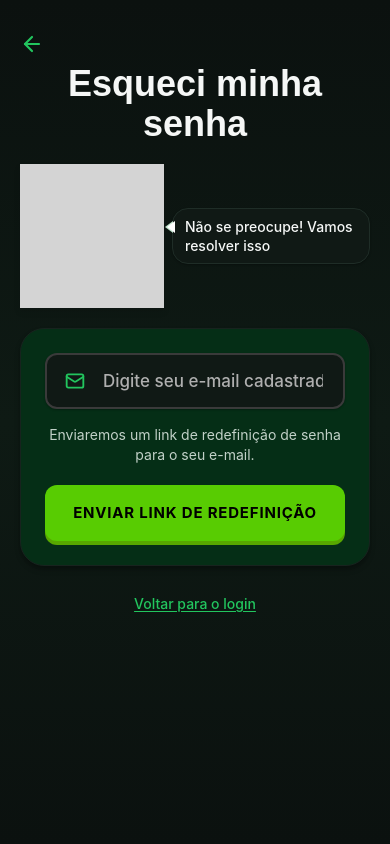
ForgotPassword — submissão › exibe tela de sucesso após envio
Type "user@test.com" into the field with placeholder "Digite seu e-mail cadastrado" at (195, 381), box [45,353,345,409]
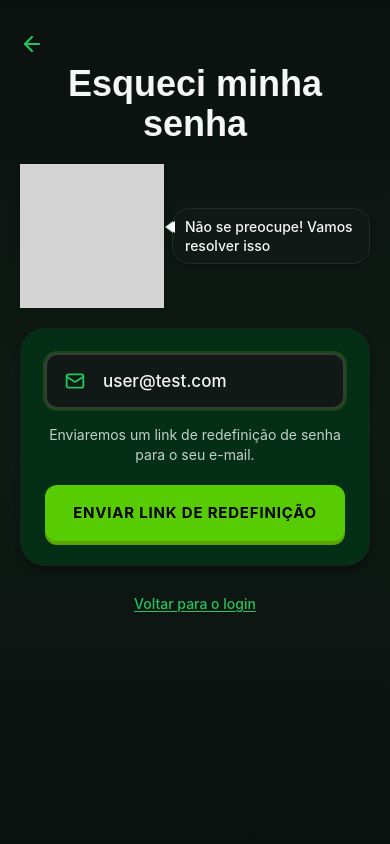
Click the button "Enviar link de redefinição" at (195, 513), box [45,485,345,541]
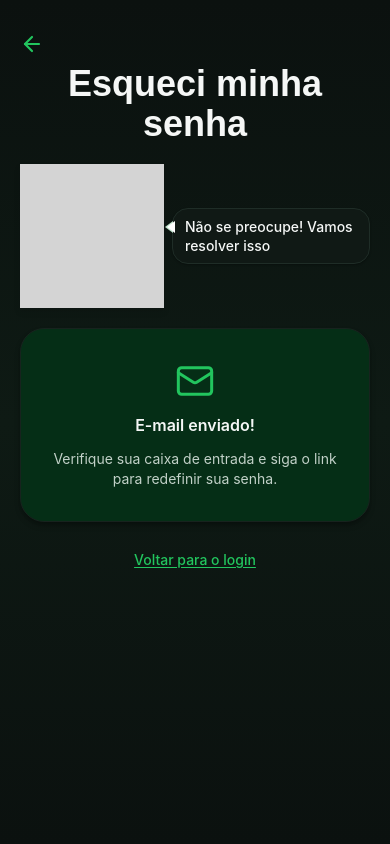
Check: the text "E-mail enviado!" is shown, box [135,413,255,437]
Check: the text "Verifique sua caixa de entrada" is shown, box [53,450,337,487]
